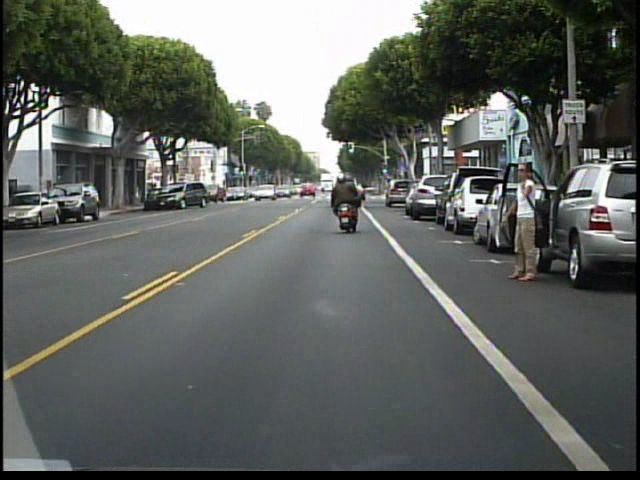person: (507, 155, 548, 287), (325, 169, 364, 232)
